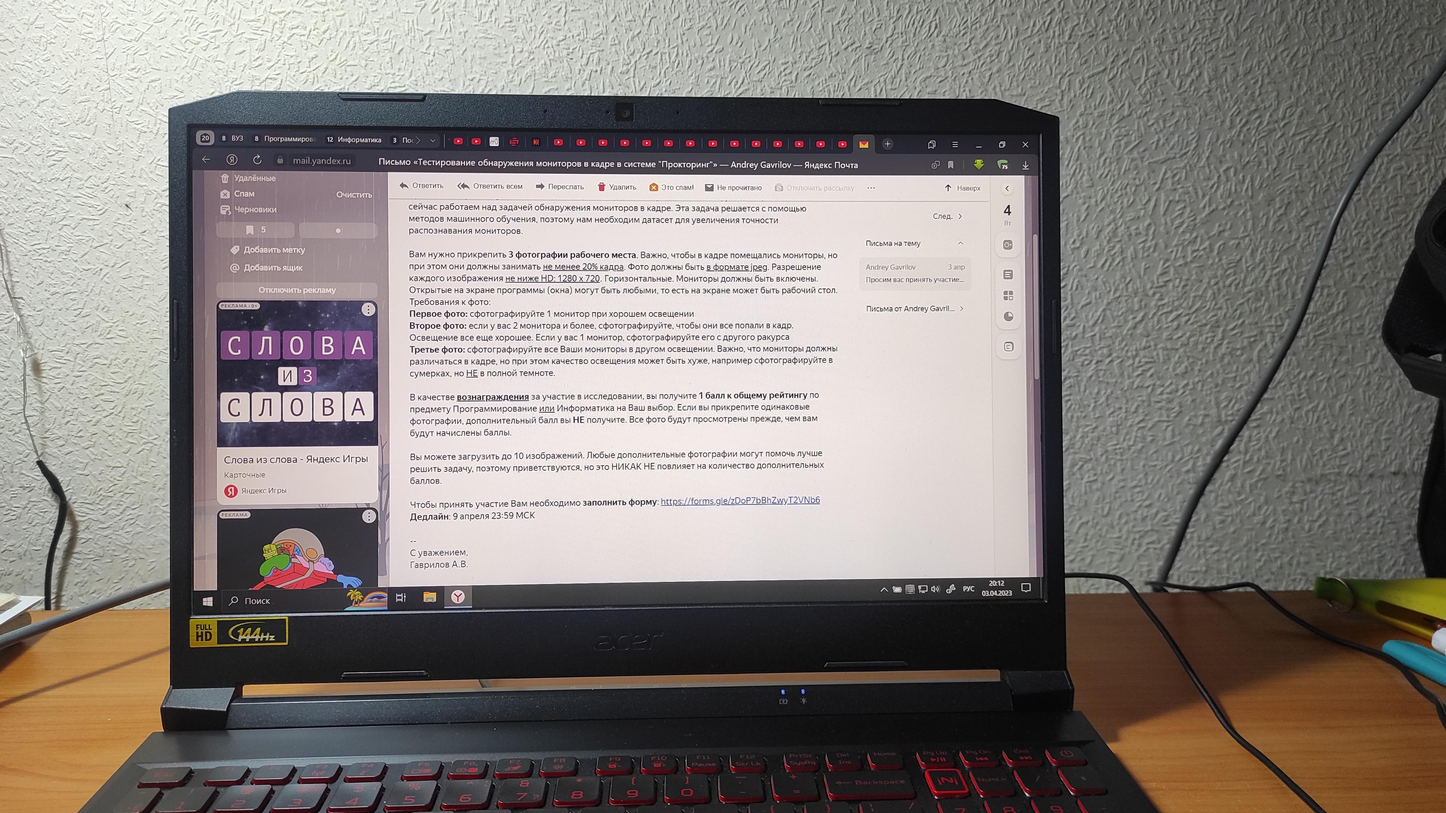monitor: (159, 84, 1077, 721)
